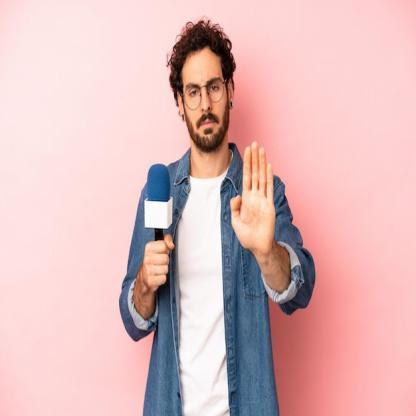thumb_up: (228, 142, 278, 258)
